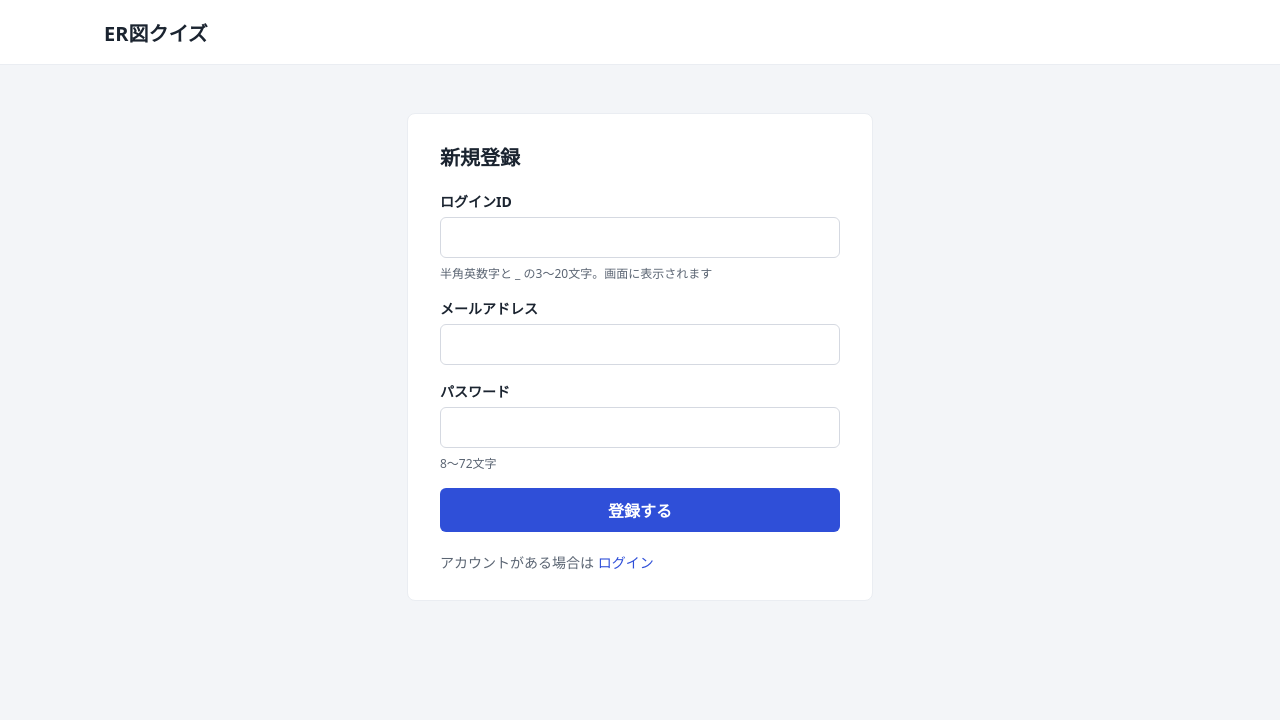
Scenario: SignupPage › 使われているログインIDなら知らせる
The width and height of the screenshot is (1280, 720).
In the field labelled "ログインID 半角英数字と _ の3〜20文字。画面に表示されます": [640, 238] box [440,217,840,258], type "taken"
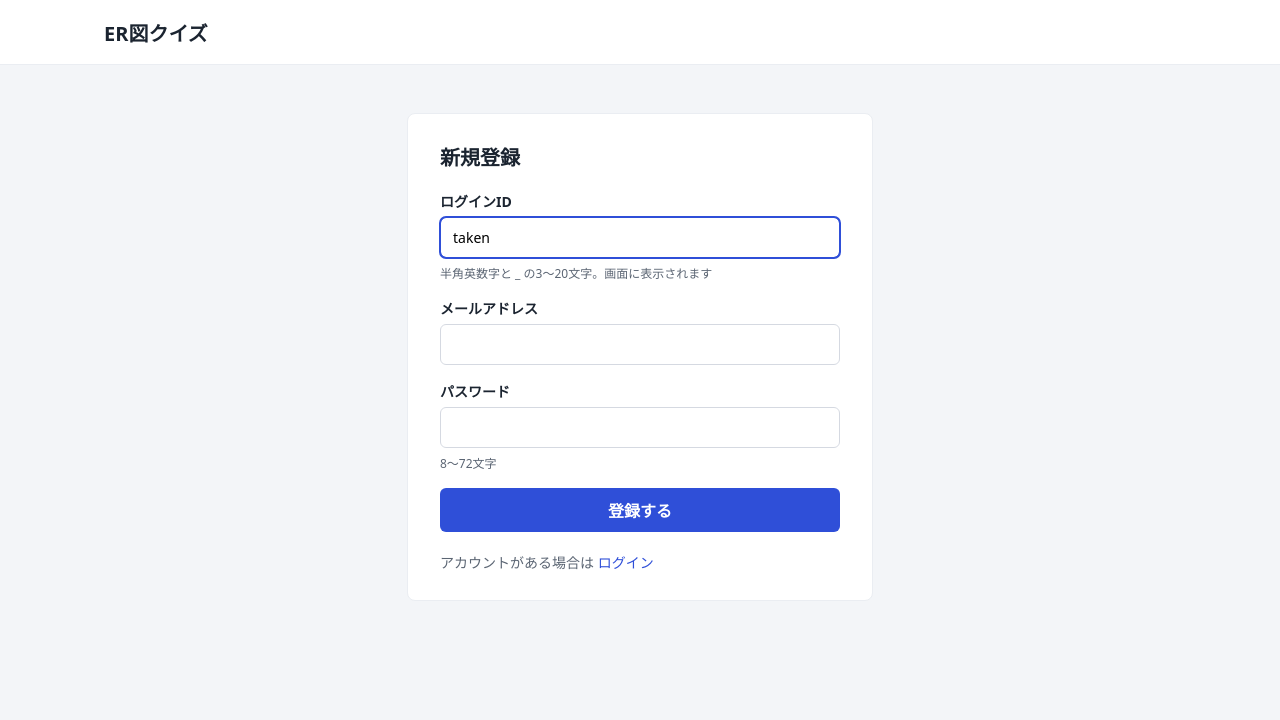
In the field labelled "メールアドレス": [640, 344] box [440,324,840,365], type "hanako@example.com"
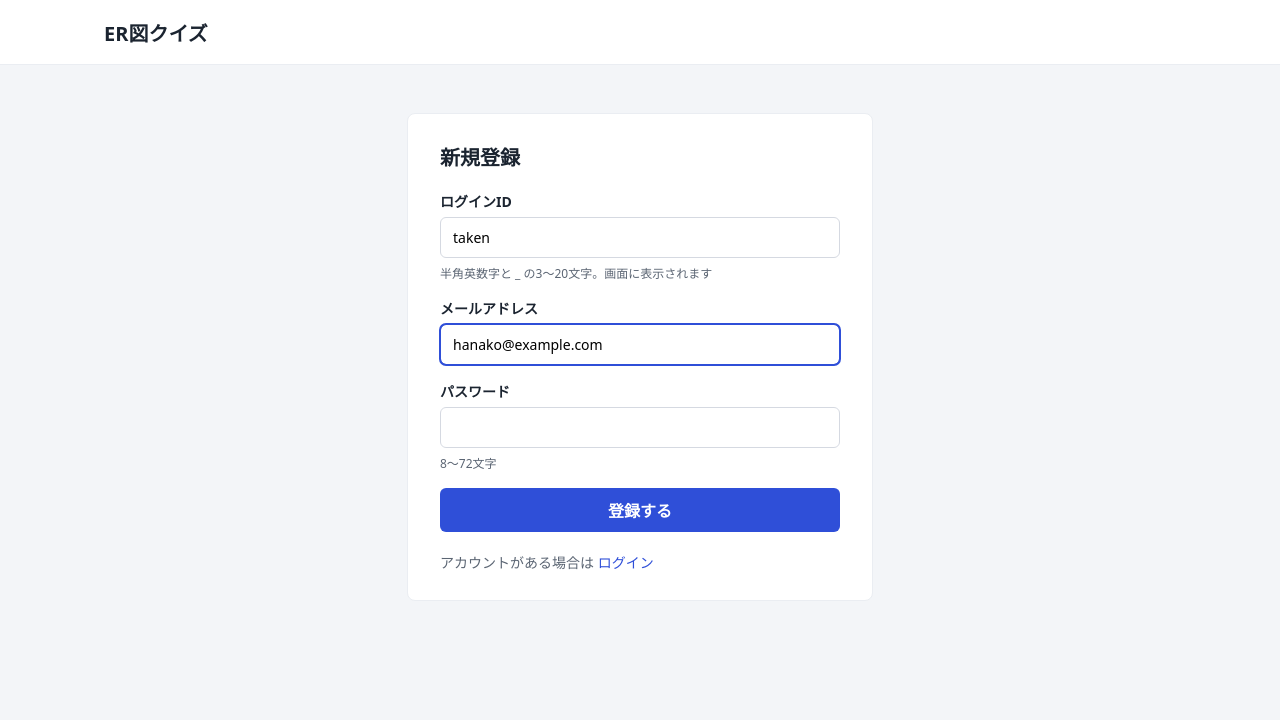
In the password field labelled "パスワード 8〜72文字": [640, 428] box [440,407,840,448], type "password"
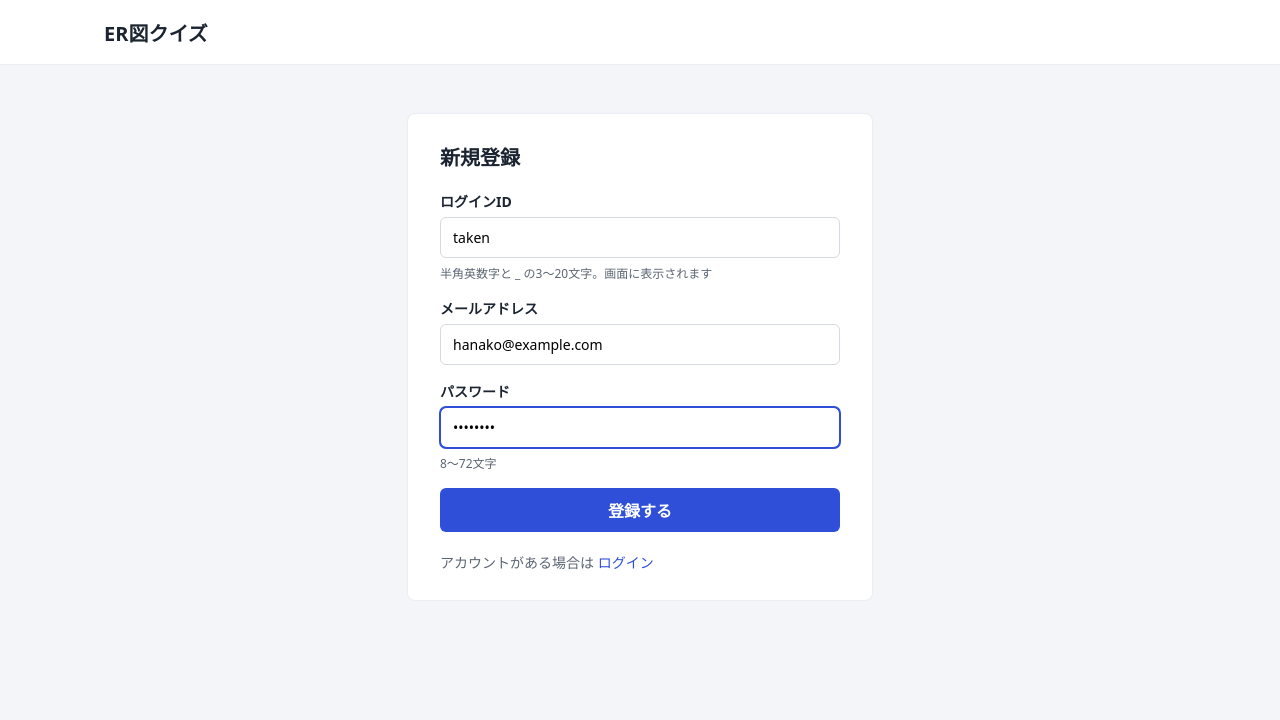
Click the button "登録する": [640, 510] box [440,488,840,532]
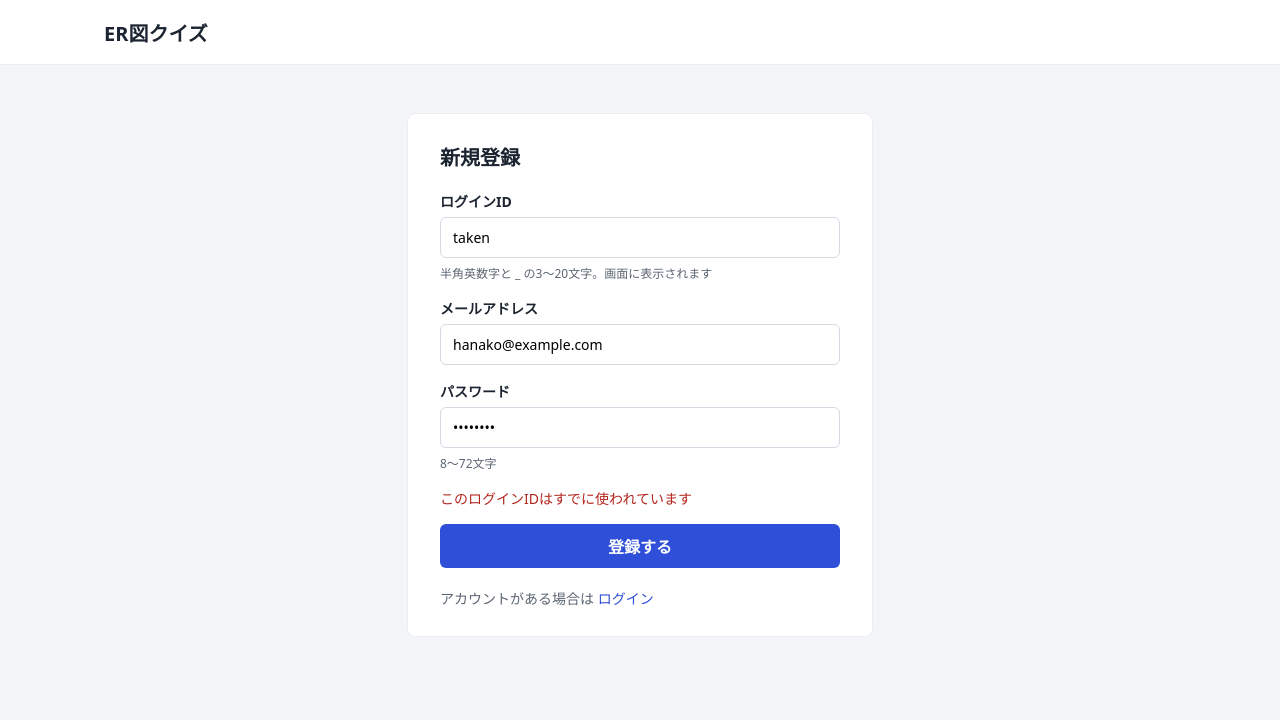
Now the message reads "このログインIDはすでに使われています", box [440,489,692,508]
